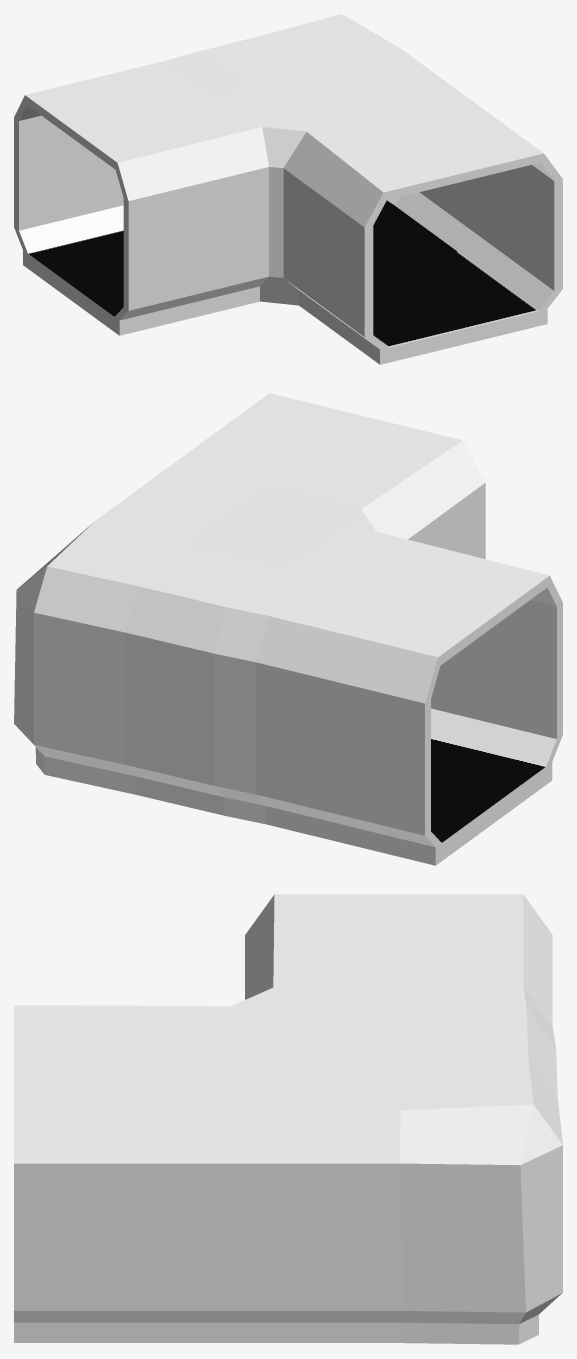
Rendered from Hallway_Corner.dae.
3 views of the same model, one above another, from view 1: azimuth 30°, elevation 25°; view 2: azimuth 150°, elevation 25°; view 3: azimuth 270°, elevation 25° (orthographic). The views are drawn at different scales.
Visible parts, largest first — view 1: Corner; view 2: Corner; view 3: Corner.
Part boxes in pixels (x1,y1,x2,y2): Corner: [14, 14, 562, 364]; Corner: [14, 393, 562, 865]; Corner: [14, 894, 562, 1344].
Size of what is drawn, in the model's own units: 4.99 by 5.04 by 2.35.
